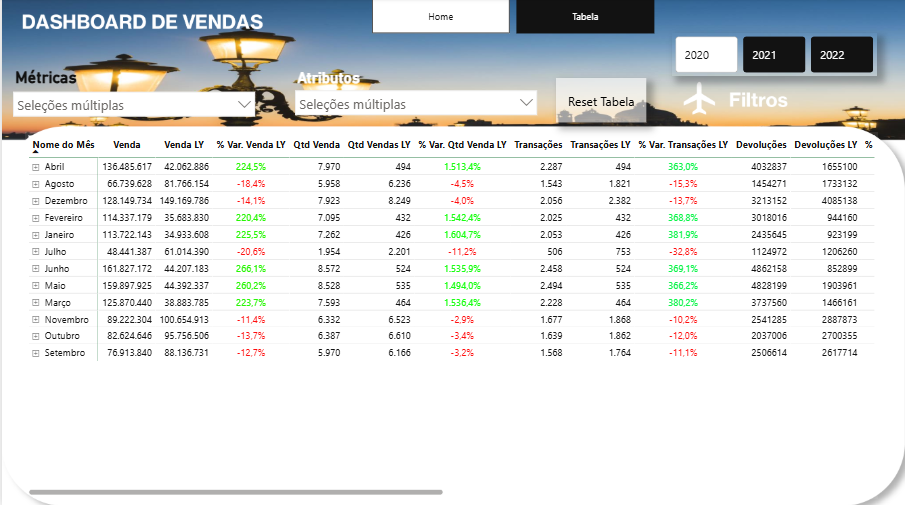

Layout of this report page (visuals, bound fields, positions):
{"tool":"powerbi","page":{"name":"Tabela","canvas":[1280,720],"ordinal":1},"visuals":[{"type":"pivotTable","fields":{"Rows":["d_calendario.Nome do Mês","d_lojas.País"],"Values":["Medidas.Venda","Medidas.Venda LY","Medidas.% Var. Venda LY","Medidas.Qtd Venda","Medidas.Qtd Vendas LY","Medidas.% Var. Qtd Venda LY","Medidas.Transações","Medidas.Transações LY","Medidas.% Var. Transações LY","Medidas.Devoluções","Medidas.Devoluções LY","Medidas.% Devoluções vs LY"]},"box":[32.9,190,1208.6,520],"z":0},{"type":"pageNavigator","box":[525,0,400,50],"z":1000},{"type":"group","id":"g1","title":"Grupo 1","box":[4.3,0,1270,720],"z":2000},{"type":"actionButton","box":[950,110,188.3,66.7],"z":3000},{"type":"slicer","fields":{"Values":["Métricas.Grupo Métrica","Métricas.Métricas","Métricas.Métricas"]},"box":[5,95,363.3,81.7],"z":4000},{"type":"slicer","fields":{"Values":["Atributos.Atributos"]},"box":[405,95,363.3,81.7],"z":5000},{"type":"advancedSlicerVisual","fields":{"Values":["d_calendario.Ano"]},"box":[950,50,291.4,61.4],"z":6000},{"type":"actionButton","box":[785,113.3,128.3,63.3],"z":7000}]}

Visuals, with their boxes in screenshot pixels (x1, y1, x2, y2), scaled from the page's 1280x720 canvas onto the 905x505 screenshot:
pivotTable - d_calendario.Nome do Mês x d_lojas.País: 23/133/878/498
pageNavigator: 371/0/654/35
"Grupo 1" group: 3/0/901/504
actionButton: 672/77/805/124
slicer - Métricas.Grupo Métrica x Métricas.Métricas: 4/67/260/124
slicer - Atributos.Atributos: 286/67/543/124
advancedSlicerVisual - d_calendario.Ano: 672/35/878/78
actionButton: 555/79/646/124
